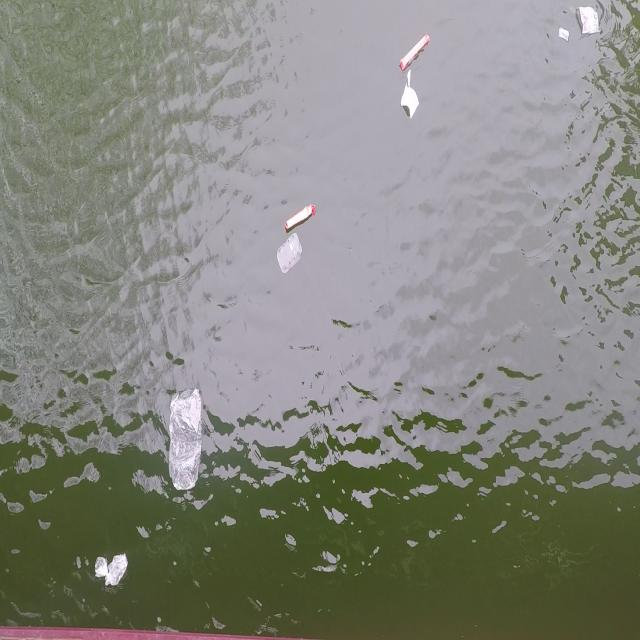Autre plastique: (273, 233, 306, 278), (395, 82, 424, 120)
Sac plastique: (164, 380, 204, 502), (91, 549, 132, 591), (576, 3, 605, 41)
